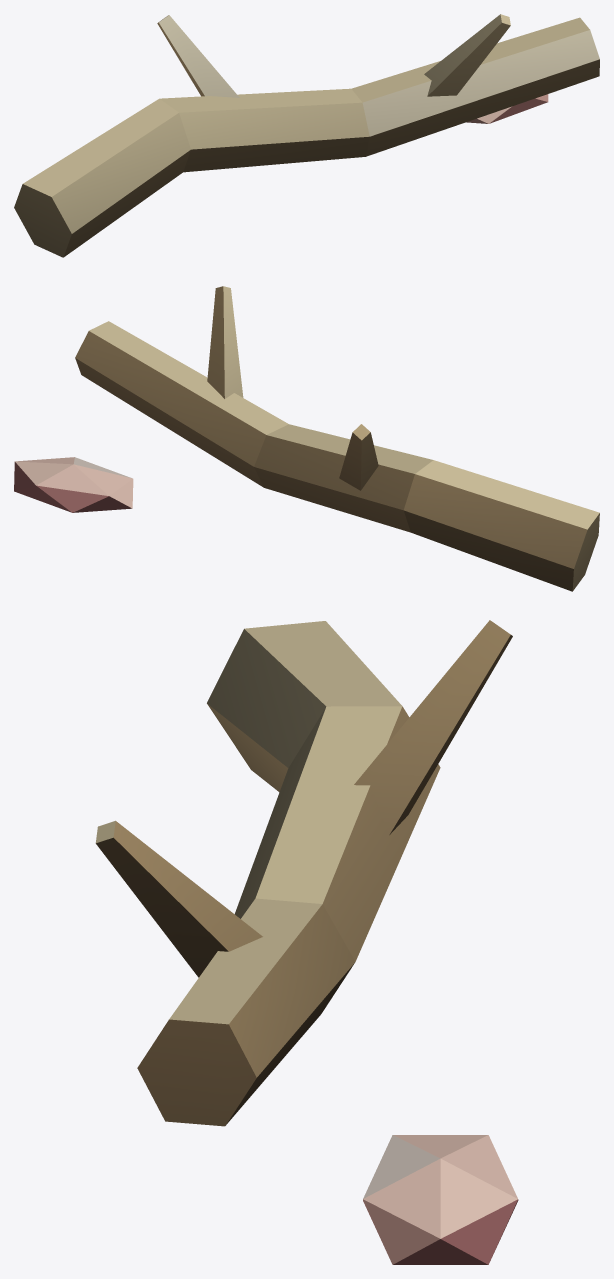
The model's file is driftwood.glb.
The picture shows the model from 3 angles, top to bottom: view 1: azimuth 30°, elevation 25°; view 2: azimuth 150°, elevation 25°; view 3: azimuth 270°, elevation 25°; orthographic projection. The views are drawn at different scales.
Parts seen in each view (by area): view 1: driftwood; view 2: driftwood; view 3: driftwood.
Boxes of the visible parts, x1=… form: driftwood: x1=14, y1=14, x2=599, y2=257; driftwood: x1=14, y1=286, x2=599, y2=591; driftwood: x1=95, y1=620, x2=518, y2=1264.
Bounding box in the file's own units: 0.8256 × 0.2564 × 0.2776.
